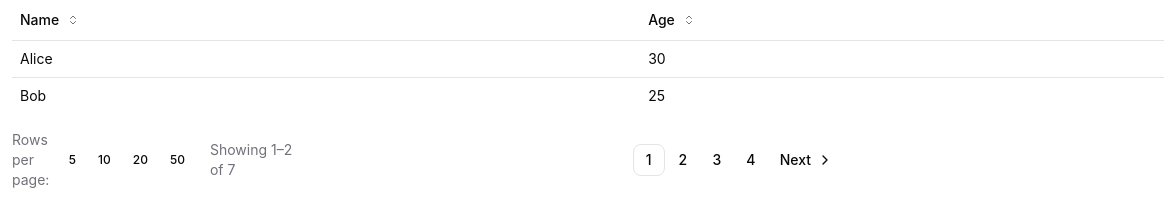
DataTable › shows pagination controls with prev/next when multiple pages
Expected: the text "Showing 1–2 of 7" is shown, [210, 140, 293, 180]
Click the button "Next" at (806, 159), box [780, 150, 833, 168]
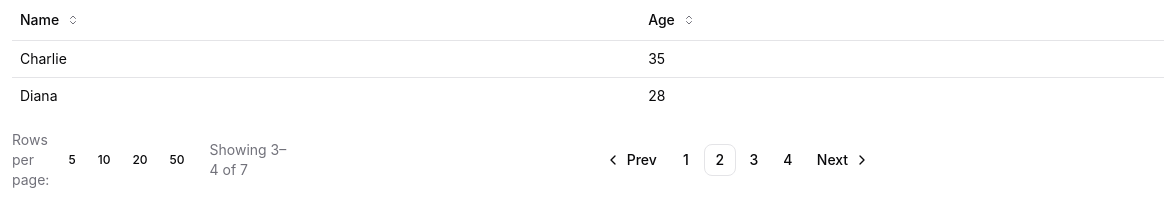
Now the text "Showing 3–4 of 7" is shown, box [210, 140, 295, 180]
Now the button "Prev" is shown
Click the button "Prev" at (631, 159), box [605, 150, 657, 168]
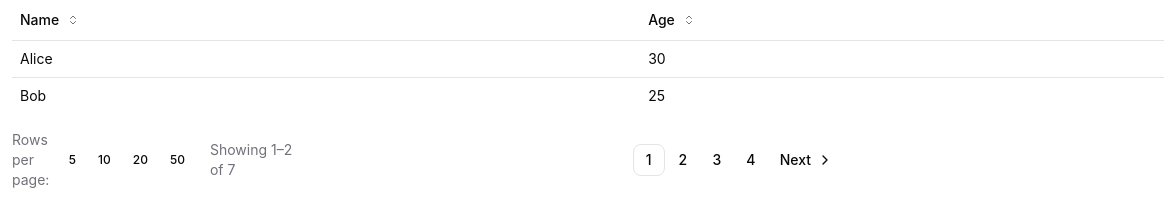
Now the text "Showing 1–2 of 7" is shown, box [210, 140, 293, 180]
